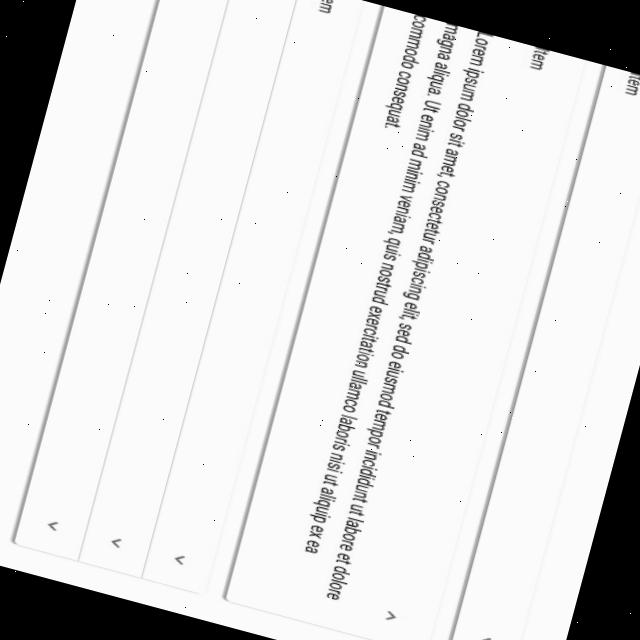VExpansionPanels: (218, 4, 588, 640), (5, 0, 364, 596), (440, 64, 640, 640)
